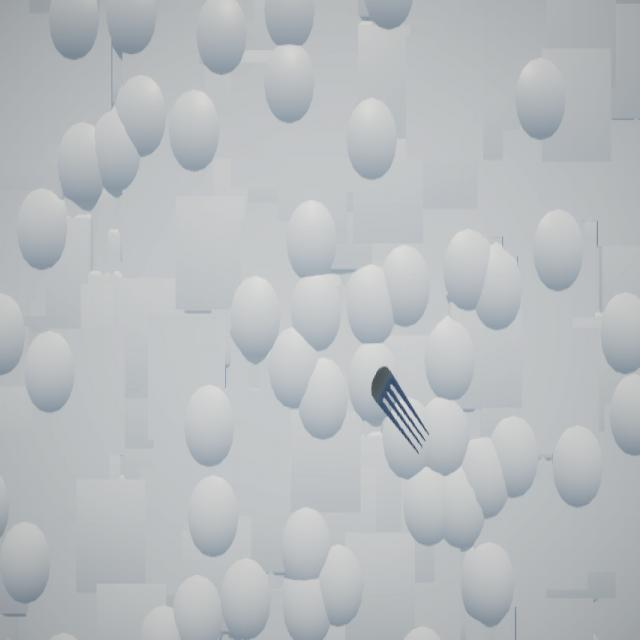top_folk: (372, 368, 430, 455)
